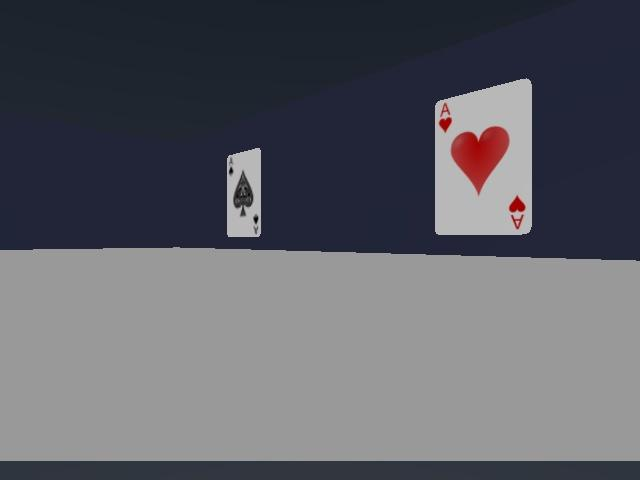heart: (435, 79, 531, 234)
spade: (227, 148, 261, 236)
